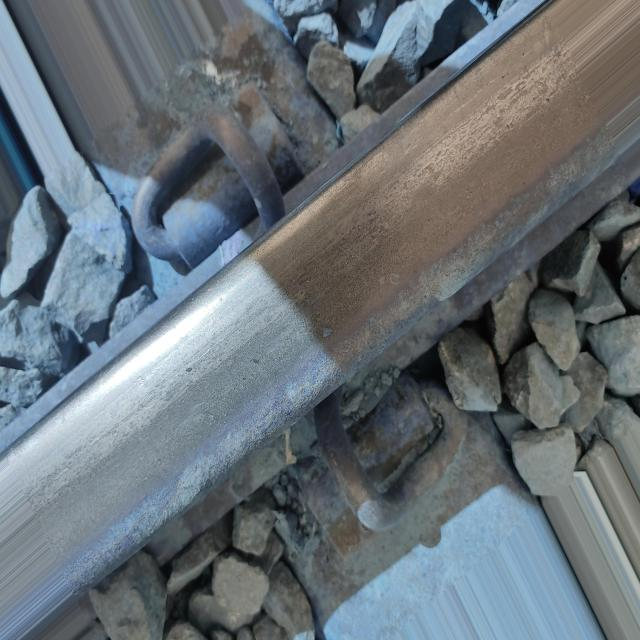Good Fasteners: (131, 83, 300, 274), (313, 373, 467, 531)
